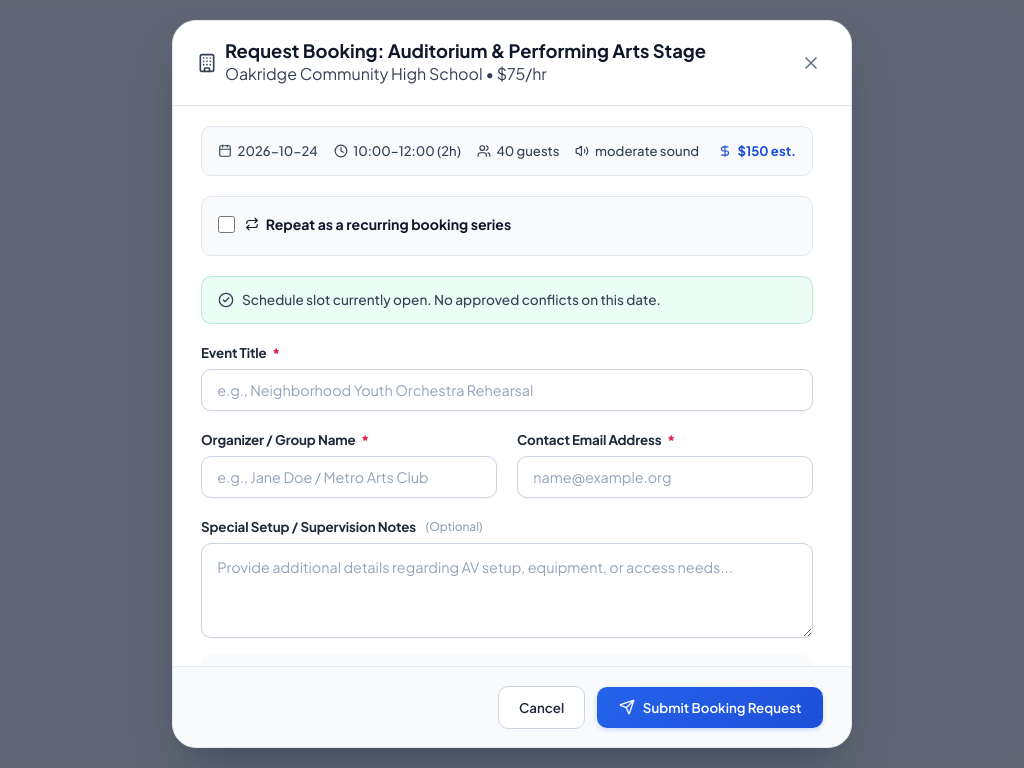
Test: Recurring Bookings & Batch Conflict Checking › BookingRequestModal with Recurring Series › blocks recurring submission when any occurrence has an approved conflict
// Fill in required fields
Type "Community Art Series" into the field labelled "Event Title *" at point(507, 390), box [201,369,813,411]
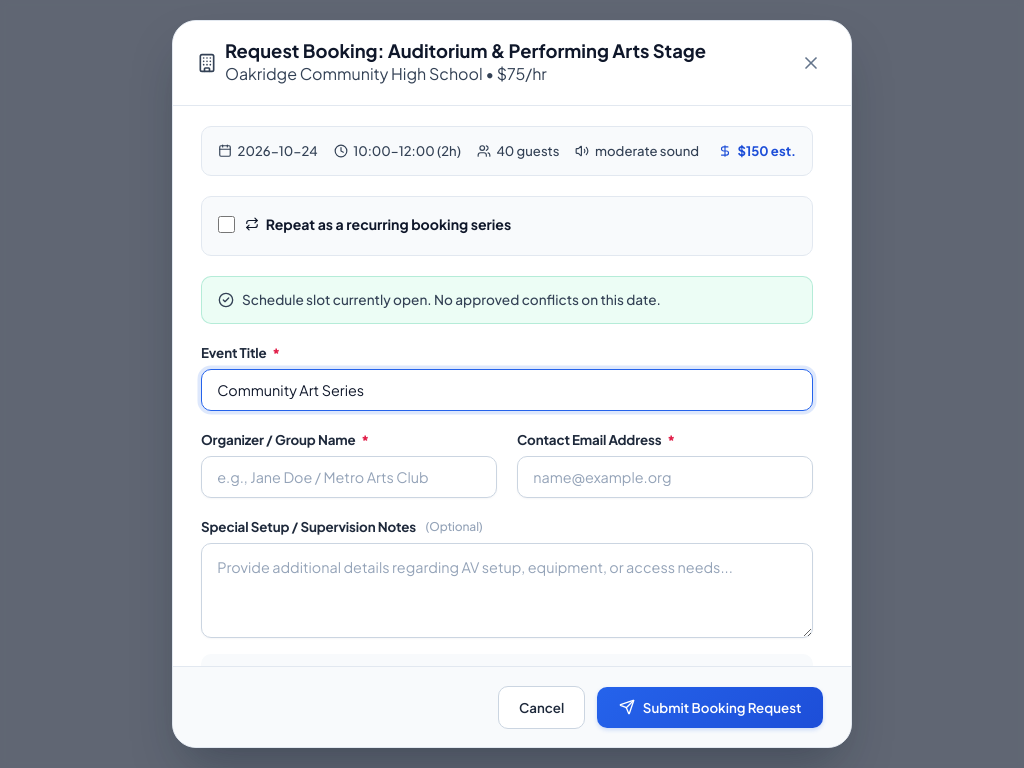
Type "Metro Arts Club" into the field labelled "Organizer / Group Name *" at point(349, 477), box [201,456,497,498]
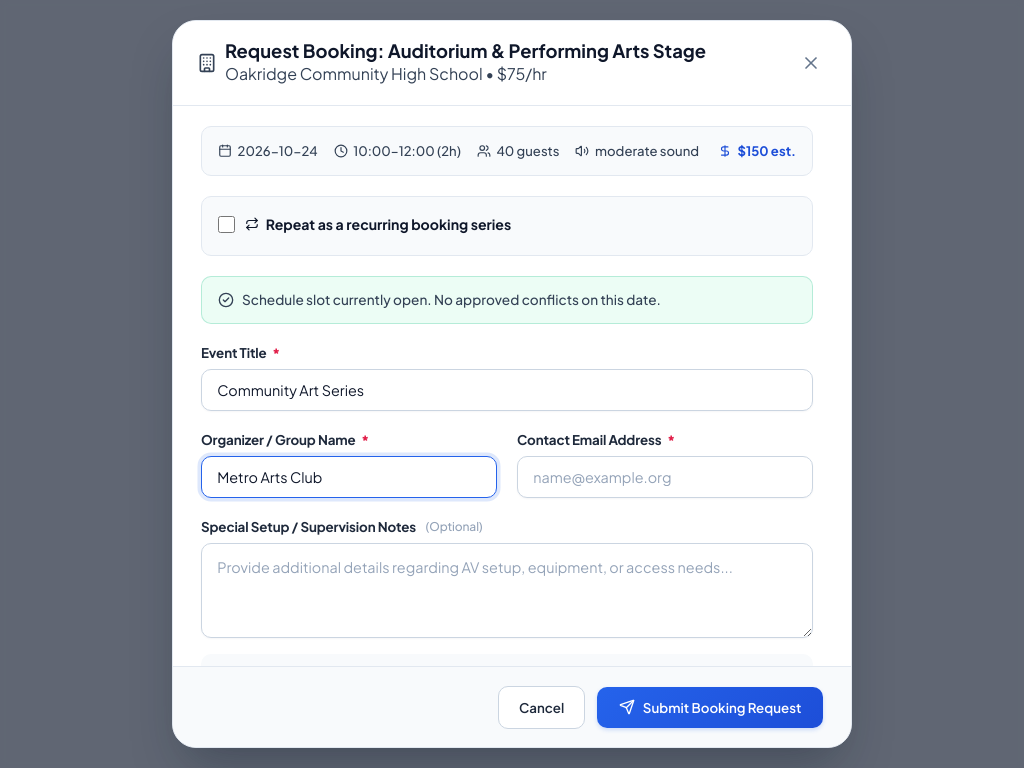
Type "arts@metro.example.org" into the field labelled "Contact Email Address *" at point(665, 477), box [517,456,813,498]
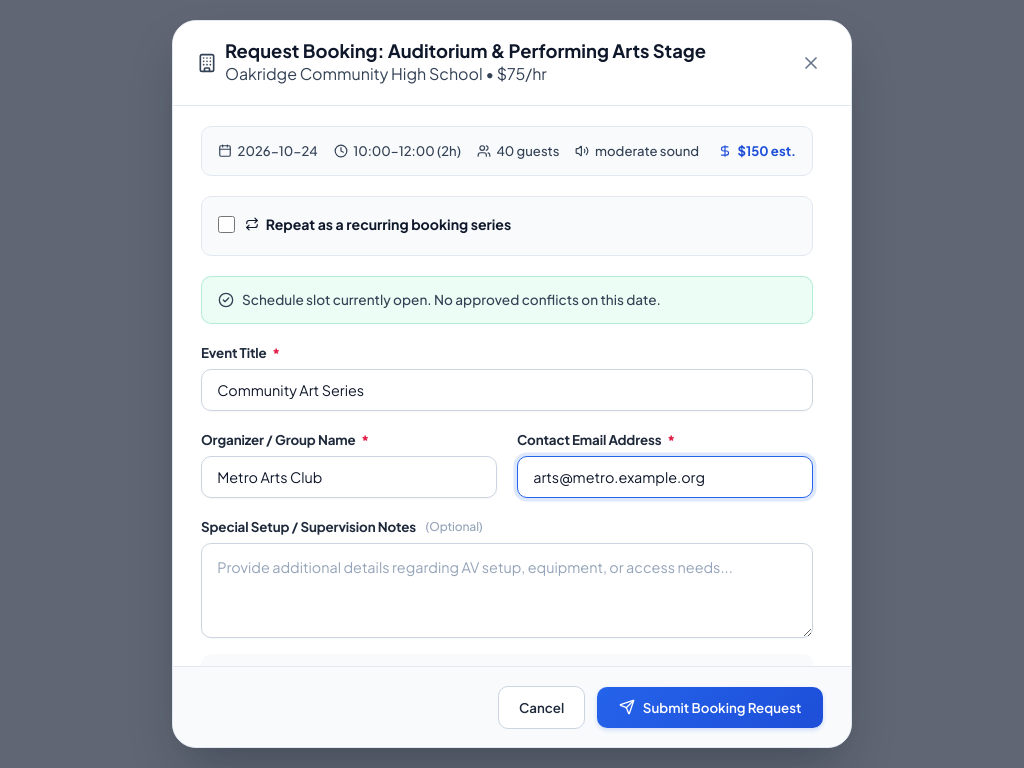
// Check recurring toggle
Click the checkbox labelled "Repeat as a recurring booking series" at point(226, 224), box [218,216,235,233]
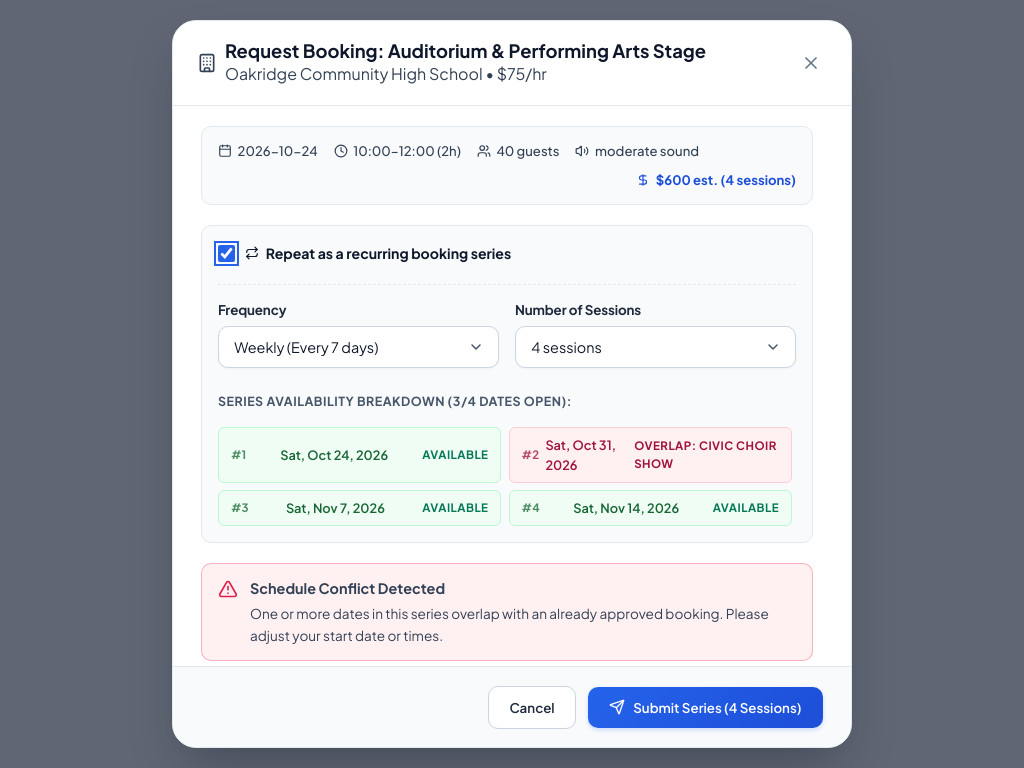
expect the text "One or more dates in this series overlap" is shown: met, box [250,605,769,644]
expect the button "Submit Series (4 Sessions)" is disabled: met, box [588,687,823,728]
